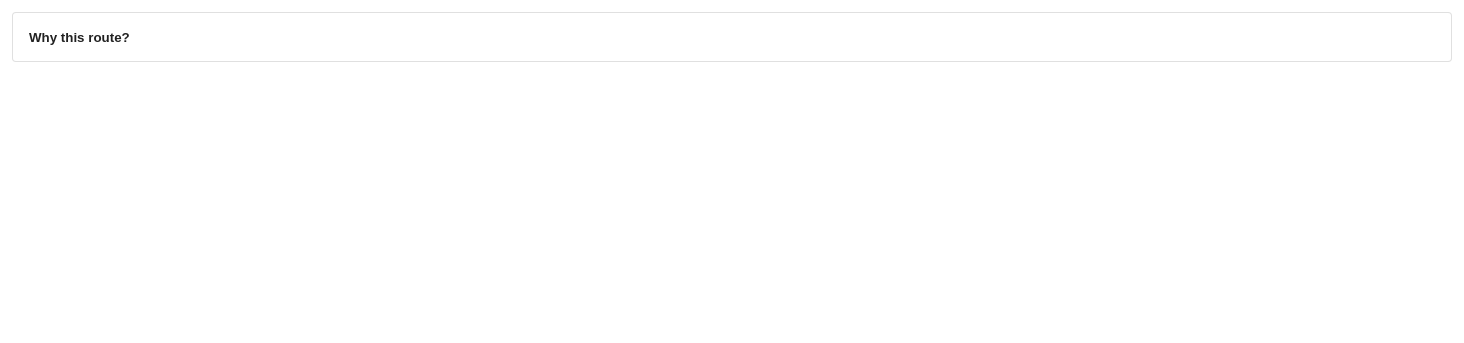
it: the criteria are behind an expand
Check: the text "Severe miles" is not shown
Step 1. Click the button "Why this route?" → x=79, y=37, box [13,13,1451,61]
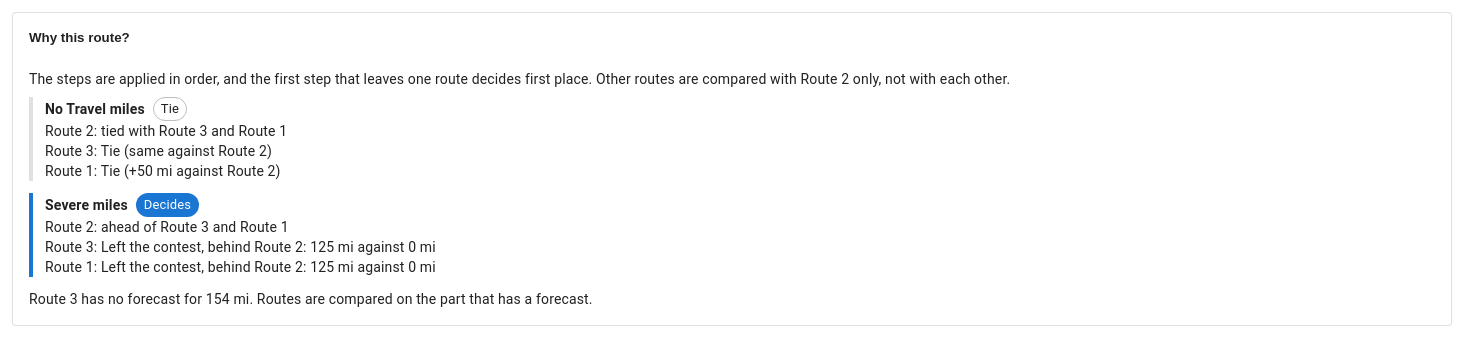
Check: the text "Severe miles" is shown, box [45,195,128,215]
